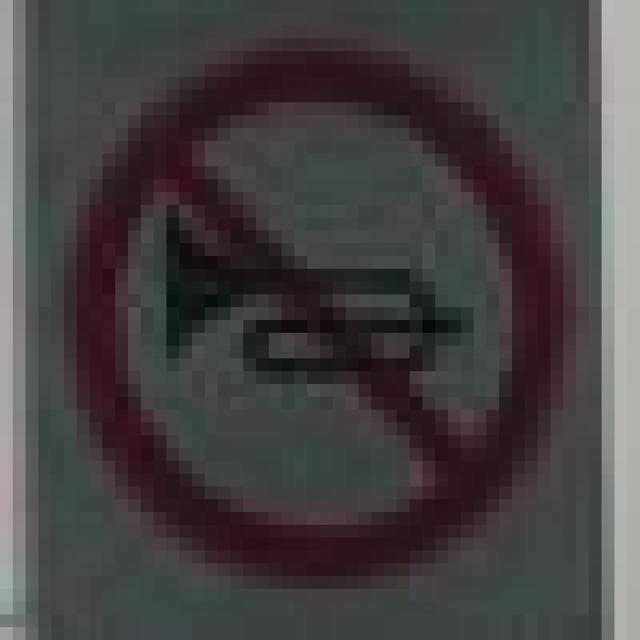HORN_PROHIBITED: (52, 38, 550, 576)
